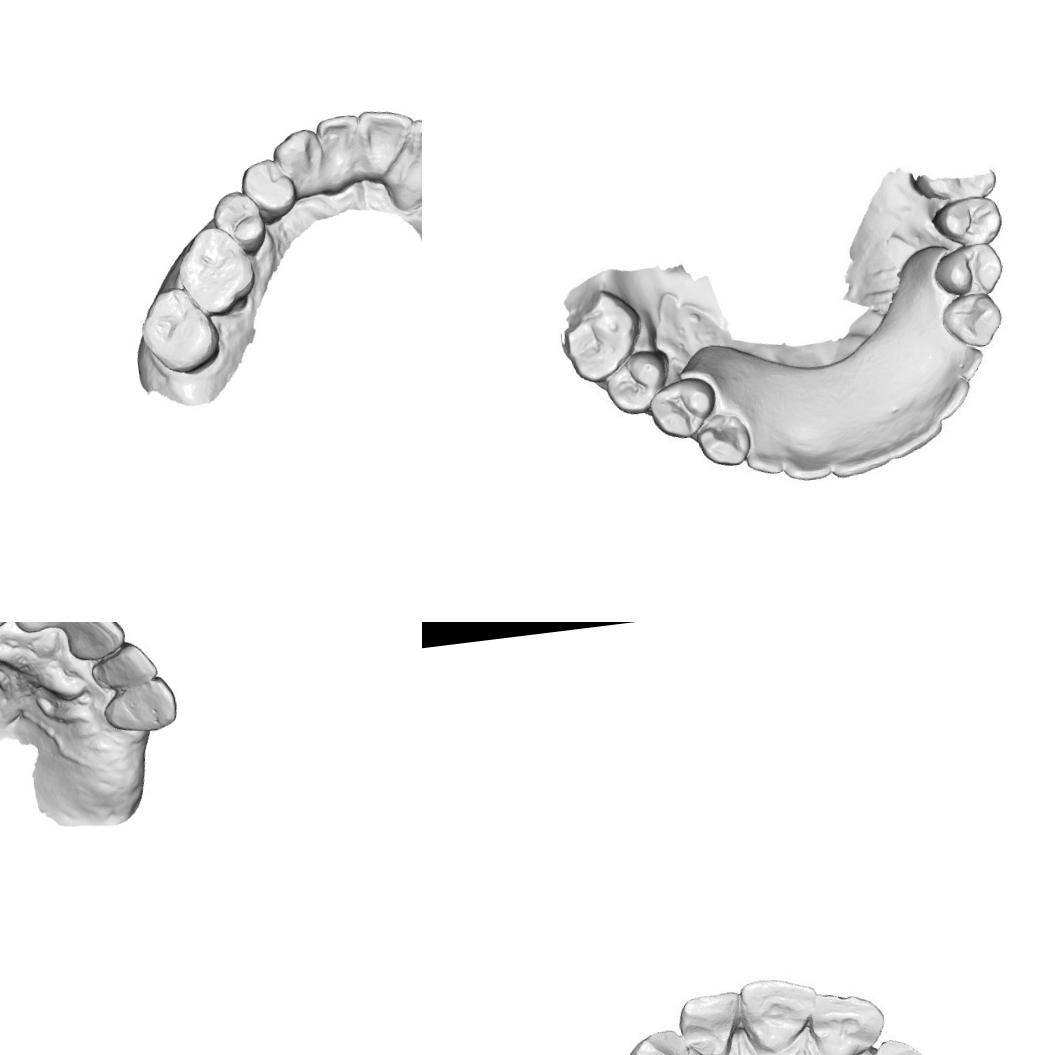canine: (99, 673, 180, 737), (270, 125, 328, 201), (940, 289, 1006, 352), (694, 410, 753, 473), (619, 1022, 690, 1055)
incisor: (732, 972, 824, 1055), (799, 983, 889, 1055), (673, 985, 747, 1055), (356, 104, 420, 184), (88, 638, 160, 694), (314, 111, 366, 186), (62, 622, 128, 662), (865, 1031, 931, 1055), (407, 110, 422, 174), (8, 622, 81, 635)
molar: (556, 287, 646, 388), (134, 282, 224, 379), (173, 221, 260, 321)
premolar: (600, 344, 677, 416), (929, 240, 1008, 300), (929, 192, 1006, 252), (237, 154, 300, 225), (209, 187, 270, 259), (638, 382, 708, 439)
